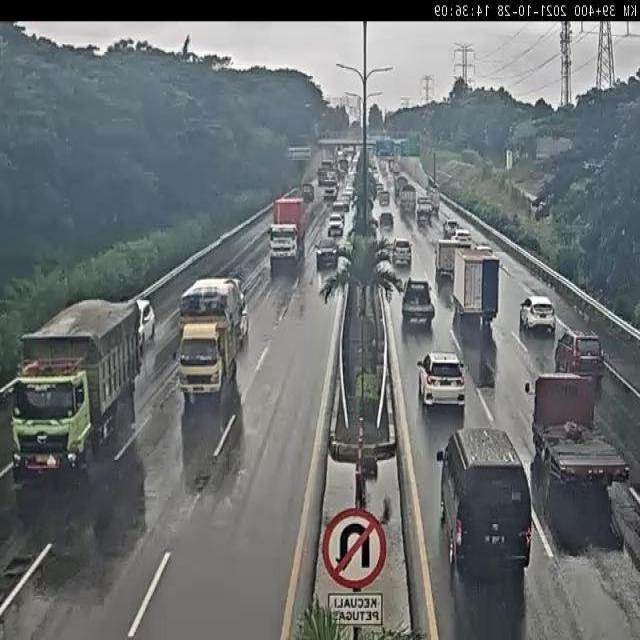Car: (554, 328, 606, 385), (417, 350, 465, 410), (401, 279, 435, 328), (520, 288, 554, 336), (136, 300, 156, 348), (316, 237, 340, 269), (392, 238, 412, 267), (328, 213, 344, 236), (452, 228, 472, 245)
Truck: (15, 297, 148, 483), (527, 370, 632, 535), (170, 275, 247, 393), (451, 247, 500, 329), (269, 195, 309, 273), (434, 236, 468, 288), (320, 172, 338, 198), (320, 158, 334, 177), (302, 182, 314, 202), (337, 158, 349, 176)
